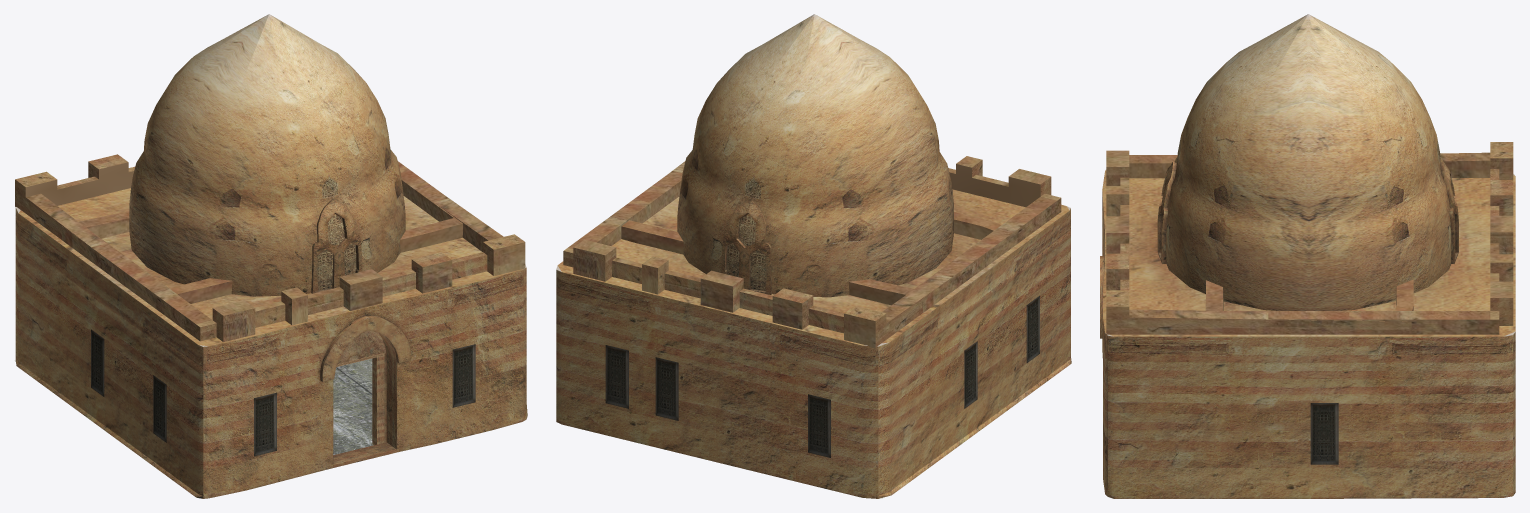
The model's file is build3a.gltf.
The picture shows the model from 3 angles, left to right: view 1: azimuth 30°, elevation 25°; view 2: azimuth 150°, elevation 25°; view 3: azimuth 270°, elevation 25°; orthographic projection. The views are drawn at different scales.
Parts seen in each view (by area): view 1: build3a; view 2: build3a; view 3: build3a.
Part boxes in pixels (x1,y1,x2,y2): build3a: (15,14,527,498); build3a: (556,14,1071,498); build3a: (1100,14,1515,498).
Bounding box in the file's own units: 9.45 × 10.26 × 9.68.
5 materials, 5 textured.
